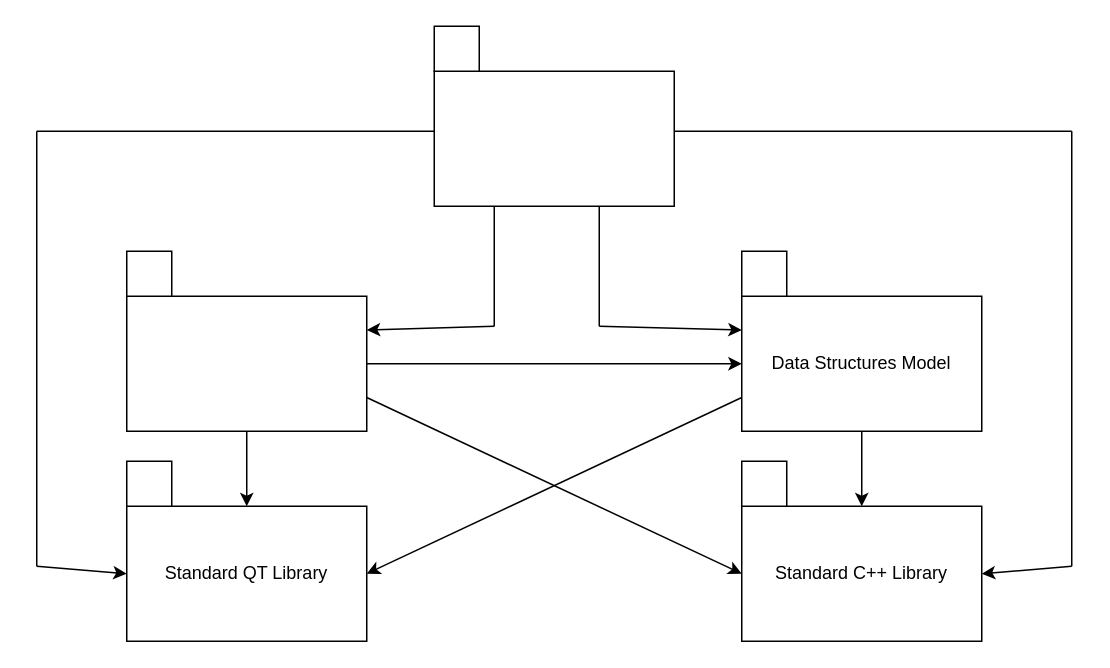
Some shapes in this 1110 by 668 pixel diagram are drawn without their labels. Each missing label, with the centre of its shape:
Database Model: point 246,363
Graphical User Interface: point 553,138
